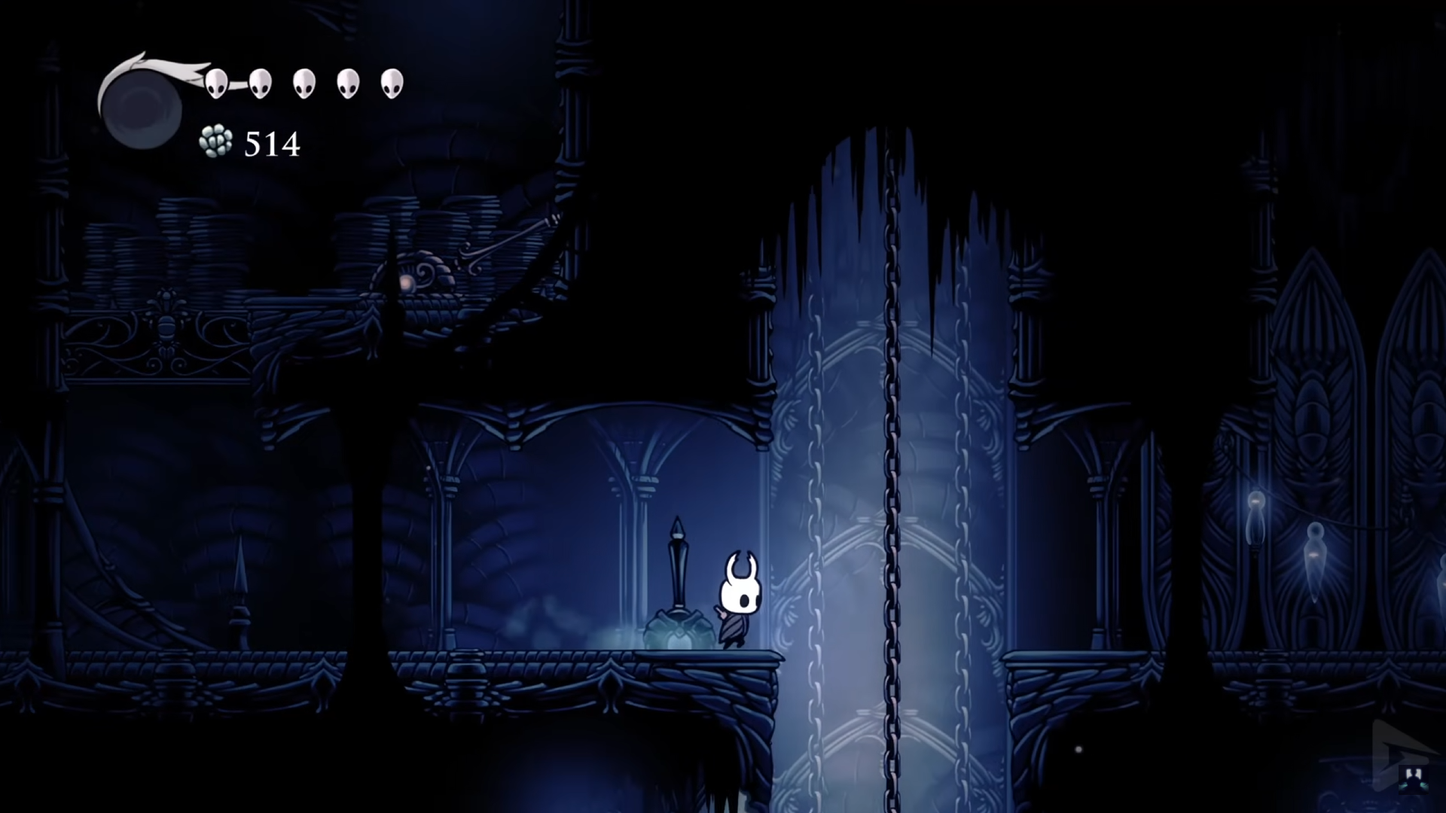HK: (713, 548, 768, 650)
